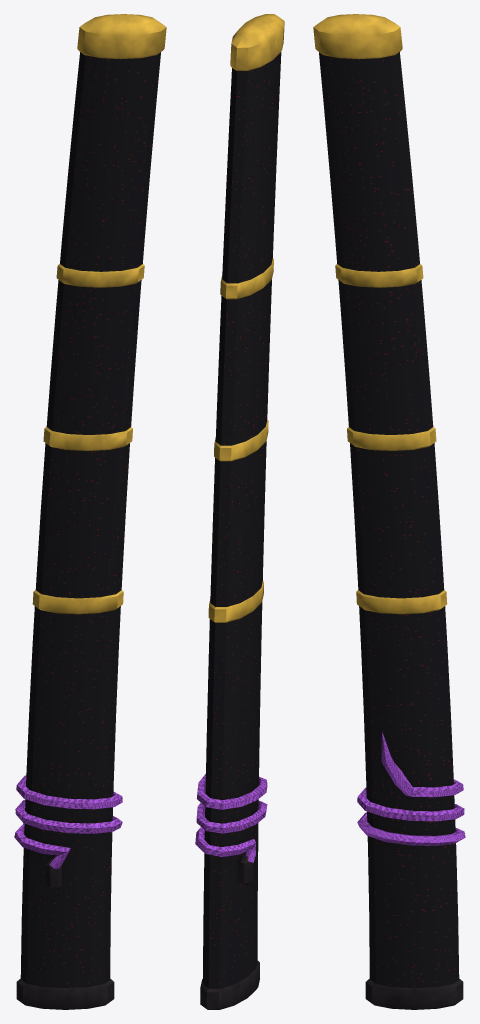
The model's file is nodachi_saya.fbx.
3 views of the same model, side by side, from view 1: azimuth 90°, elevation 25°; view 2: azimuth 150°, elevation 25°; view 3: azimuth 270°, elevation 25° (orthographic). The views are drawn at different scales.
Visible parts, largest first — view 1: nodachi_saya; view 2: nodachi_saya; view 3: nodachi_saya.
Boxes of the visible parts, x1,y1,x2,y2 form: nodachi_saya: (14,14,166,1009); nodachi_saya: (195,14,284,1009); nodachi_saya: (313,14,465,1009).
Size of the model in its own units: 43.34 by 619 by 86.68.
1 material, 1 textured.
